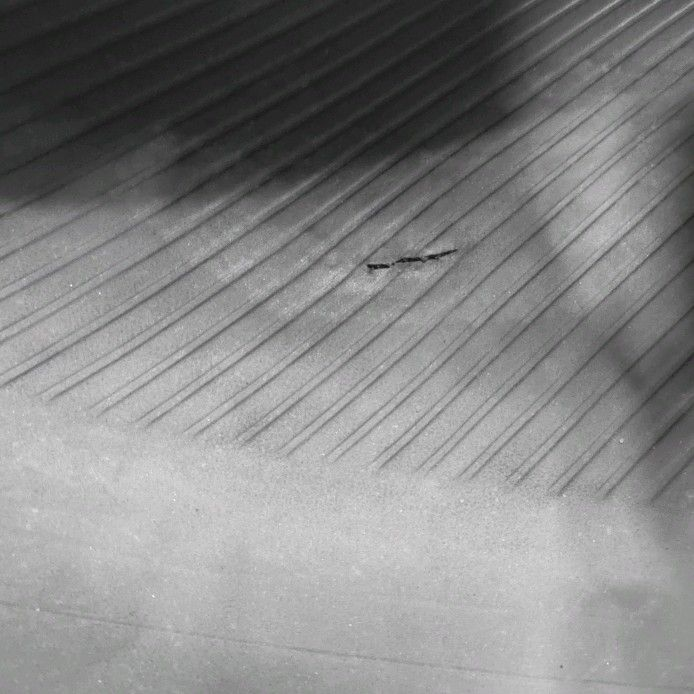cut: (364, 245, 466, 276)
